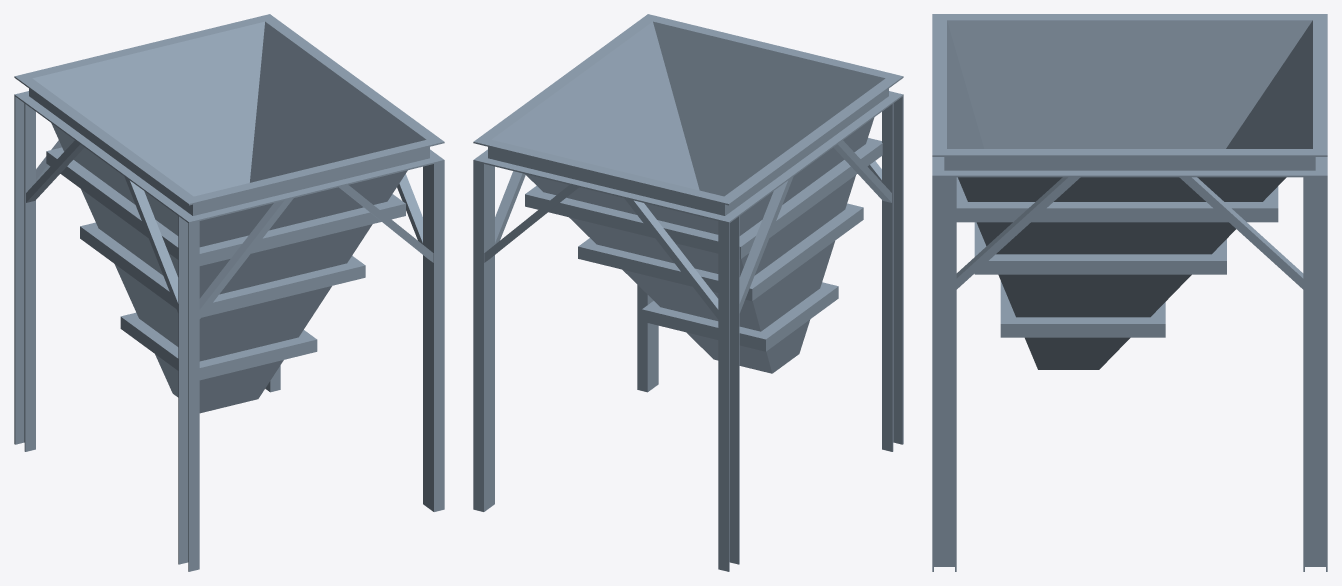
The picture shows the model from 3 angles, left to right: view 1: azimuth 30°, elevation 25°; view 2: azimuth 150°, elevation 25°; view 3: azimuth 270°, elevation 25°; orthographic projection. The views are drawn at different scales.
Visible parts, largest first — view 1: Solid2, Solid7, Solid4, Solid16, Solid17, Solid5, Solid18, Solid3, Solid8, Solid15, Solid6, Solid10 (+2 smaller); view 2: Solid2, Solid7, Solid6, Solid16, Solid5, Solid17, Solid18, Solid3, Solid9, Solid14, Solid4, Solid11 (+2 smaller); view 3: Solid2, Solid7, Solid3, Solid16, Solid17, Solid18, Solid5, Solid4, Solid6, Solid12, Solid13.
Part boxes in pixels (<box>): Solid2: <box>31,21,427,413</box>; Solid7: <box>14,96,444,571</box>; Solid4: <box>189,140,444,223</box>; Solid16: <box>46,147,405,265</box>; Solid17: <box>80,222,365,317</box>; Solid5: <box>14,76,193,223</box>; Solid18: <box>120,312,317,380</box>; Solid3: <box>265,14,443,159</box>; Solid8: <box>199,198,293,318</box>; Solid15: <box>124,176,178,312</box>; Solid6: <box>15,14,269,95</box>; Solid10: <box>339,185,433,262</box>; Solid2: <box>490,21,886,373</box>; Solid7: <box>473,96,903,571</box>; Solid6: <box>473,140,728,223</box>; Solid16: <box>525,138,882,258</box>; Solid5: <box>724,76,903,223</box>; Solid17: <box>578,203,863,300</box>; Solid18: <box>642,282,838,351</box>; Solid3: <box>474,14,652,159</box>; Solid9: <box>624,198,718,318</box>; Solid14: <box>739,176,793,312</box>; Solid4: <box>648,14,902,95</box>; Solid11: <box>484,185,578,262</box>; Solid2: <box>946,19,1313,369</box>; Solid7: <box>932,177,1327,571</box>; Solid3: <box>932,149,1327,177</box>; Solid16: <box>956,177,1278,222</box>; Solid17: <box>974,222,1226,274</box>; Solid18: <box>1000,281,1165,337</box>; Solid5: <box>933,14,1326,19</box>; Solid4: <box>932,14,945,175</box>; Solid6: <box>1314,14,1327,175</box>; Solid12: <box>956,177,1080,289</box>; Solid13: <box>1179,177,1303,289</box>.
Size of the model in its own units: 1.09 by 1.5 by 1.29.
